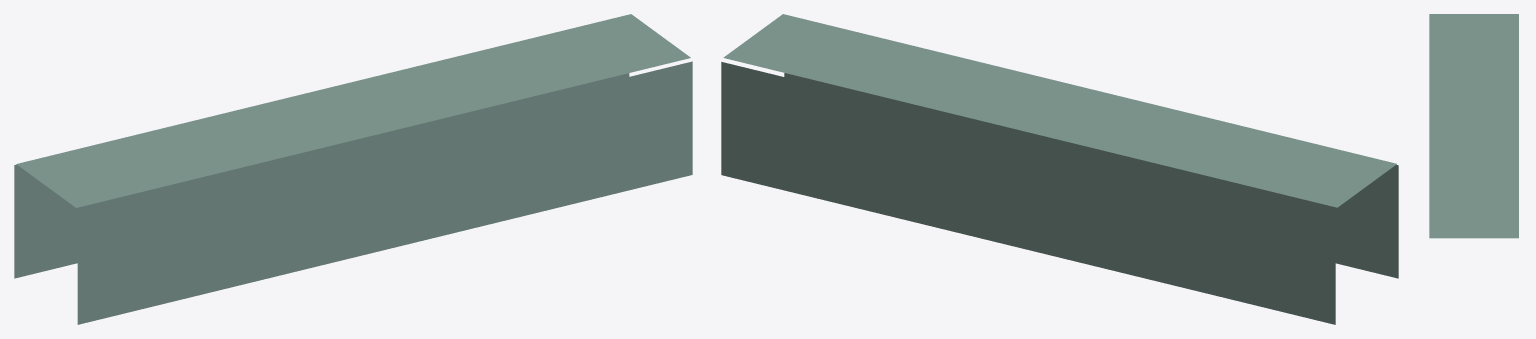
Rendered from Prop_DisplayCase_Glass_01.glb.
3 views of the same model, side by side, from view 1: azimuth 30°, elevation 25°; view 2: azimuth 150°, elevation 25°; view 3: azimuth 270°, elevation 25° (orthographic). The views are drawn at different scales.
Parts seen in each view (by area): view 1: SM_Prop_DisplayCase_Glass_01; view 2: SM_Prop_DisplayCase_Glass_01; view 3: SM_Prop_DisplayCase_Glass_01.
Boxes of the visible parts, x1=… form: SM_Prop_DisplayCase_Glass_01: x1=14, y1=14, x2=692, y2=324; SM_Prop_DisplayCase_Glass_01: x1=721, y1=14, x2=1398, y2=324; SM_Prop_DisplayCase_Glass_01: x1=1429, y1=14, x2=1518, y2=238.
Size of the model in its own units: 2.45 by 0.4416 by 0.4366.
